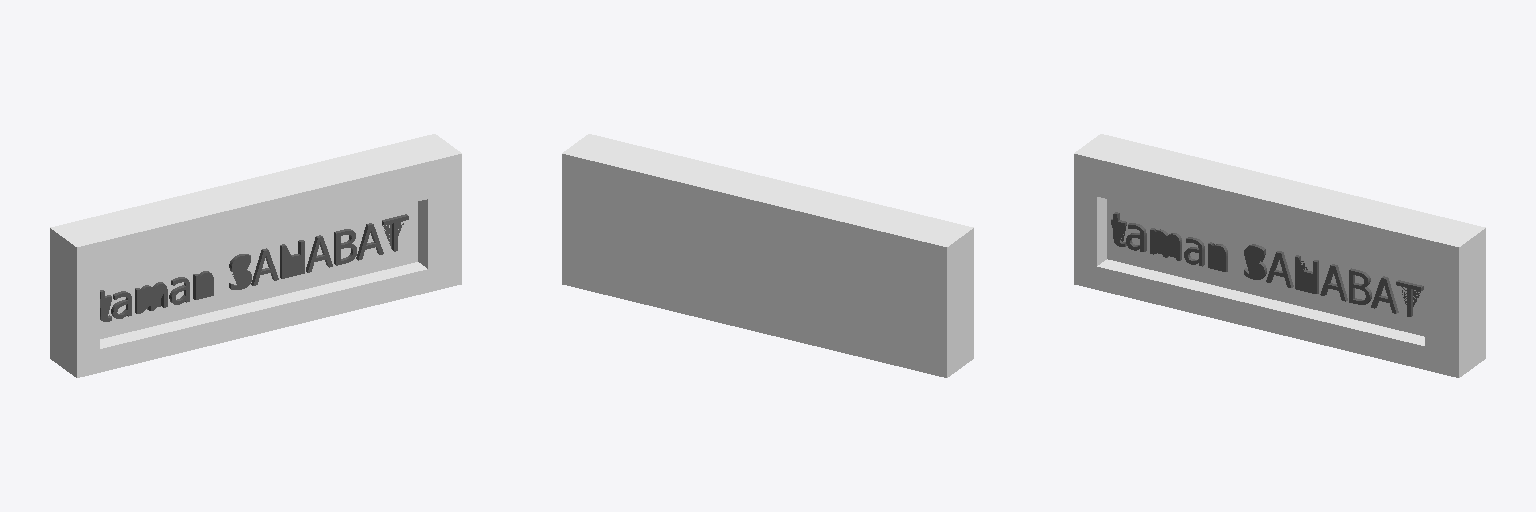
The model's file is label.obj.
3 renders of one model, left to right at view 1: azimuth 30°, elevation 25°; view 2: azimuth 150°, elevation 25°; view 3: azimuth 330°, elevation 25°, orthographic.
Parts seen in each view (by area): view 1: Mesh13 Model, Mesh3 taman_SAHABAT_1_1 Model, Mesh8 taman_SAHABAT_1_1 Model, Mesh6 taman_SAHABAT_1_1 Model, Mesh10 taman_SAHABAT_1_1 Model, Mesh5 taman_SAHABAT_1_1 Model; view 2: Mesh13 Model; view 3: Mesh13 Model, Mesh3 taman_SAHABAT_1_1 Model, Mesh8 taman_SAHABAT_1_1 Model, Mesh6 taman_SAHABAT_1_1 Model, Mesh10 taman_SAHABAT_1_1 Model.
Part boxes in pixels (x1,y1,x2,y2): Mesh13 Model: (50, 134, 461, 377); Mesh3 taman_SAHABAT_1_1 Model: (135, 282, 167, 313); Mesh8 taman_SAHABAT_1_1 Model: (280, 240, 304, 278); Mesh6 taman_SAHABAT_1_1 Model: (229, 254, 251, 289); Mesh10 taman_SAHABAT_1_1 Model: (334, 229, 356, 265); Mesh5 taman_SAHABAT_1_1 Model: (193, 271, 213, 299); Mesh13 Model: (562, 134, 973, 377); Mesh13 Model: (1074, 134, 1485, 377); Mesh3 taman_SAHABAT_1_1 Model: (1150, 228, 1181, 260); Mesh8 taman_SAHABAT_1_1 Model: (1295, 255, 1318, 293); Mesh6 taman_SAHABAT_1_1 Model: (1244, 244, 1266, 279); Mesh10 taman_SAHABAT_1_1 Model: (1349, 268, 1371, 304).
Size of the model in its own units: 236 by 76.5 by 28.74.